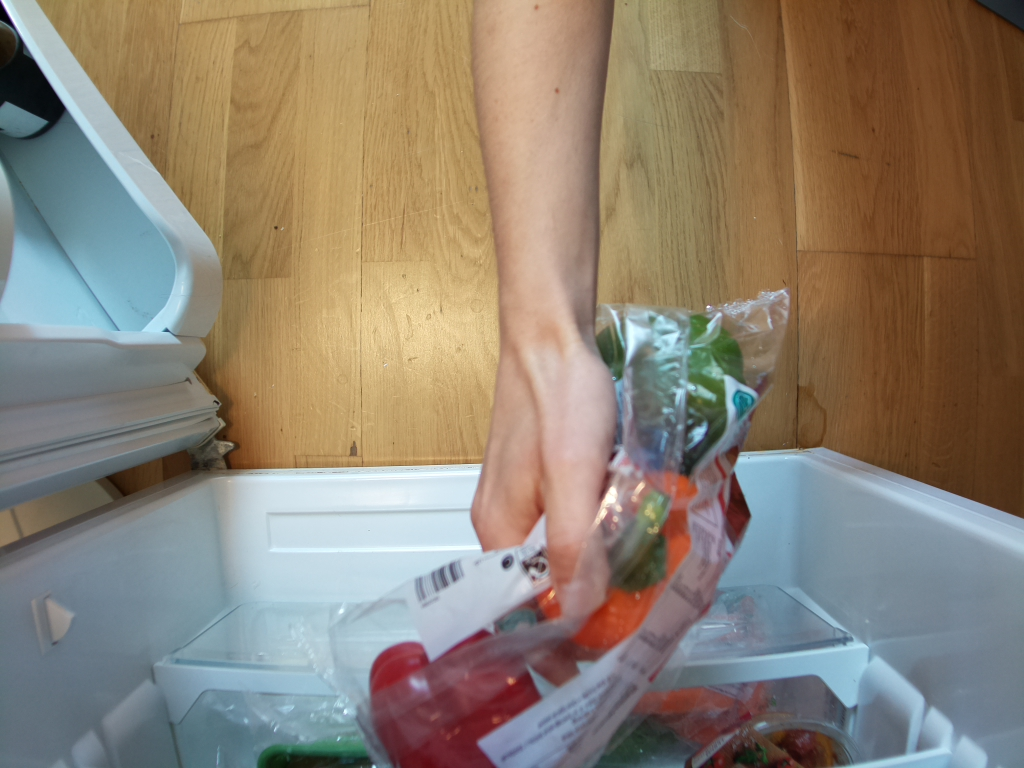pepper: (539, 464, 725, 664), (369, 629, 554, 768), (598, 304, 752, 461)
